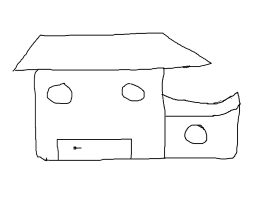door: (52, 132, 140, 166)
open_window: (47, 83, 72, 104), (184, 124, 207, 144), (121, 83, 145, 101)
roof: (11, 32, 211, 71), (162, 92, 241, 116)
wall: (31, 65, 167, 164), (162, 108, 244, 162)
